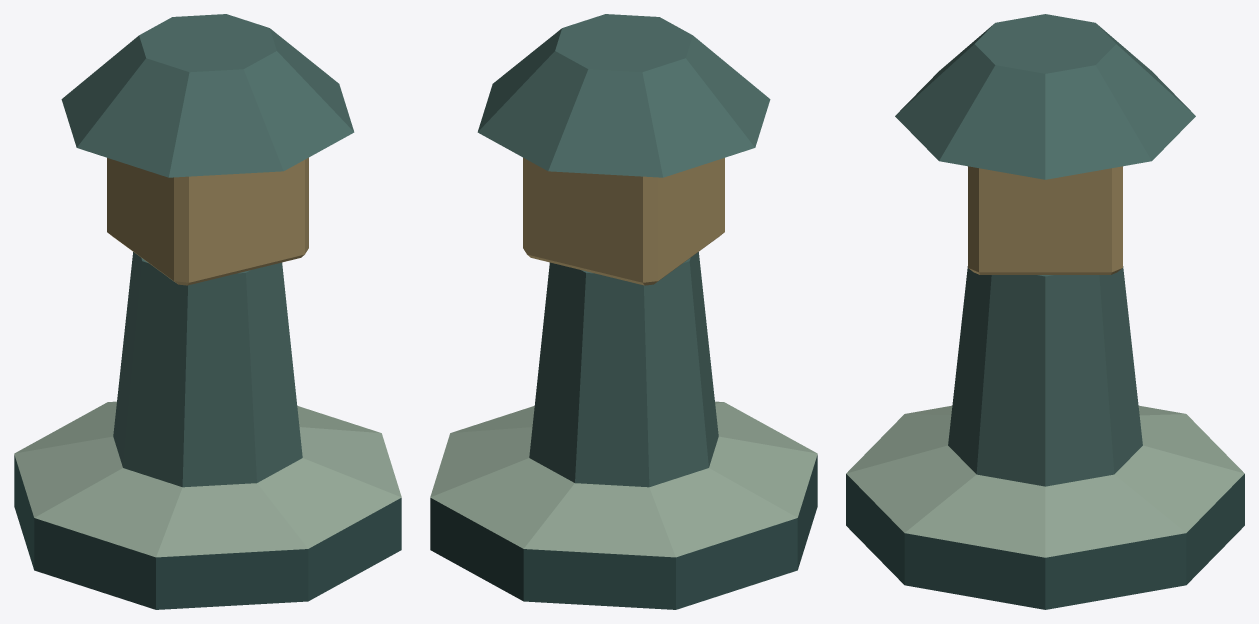
Rendered from archive-lamp.glb.
3 views of the same model, side by side, from view 1: azimuth 30°, elevation 25°; view 2: azimuth 150°, elevation 25°; view 3: azimuth 270°, elevation 25° (orthographic).
Parts seen in each view (by area): view 1: archive-lamp__body; view 2: archive-lamp__body; view 3: archive-lamp__body.
Boxes of the visible parts, left/top/right/bottom form: archive-lamp__body: left=14, top=14, right=401, bottom=609; archive-lamp__body: left=430, top=14, right=817, bottom=609; archive-lamp__body: left=846, top=14, right=1244, bottom=609.
Bounding box in the file's own units: 0.9 × 1.2 × 0.9.
